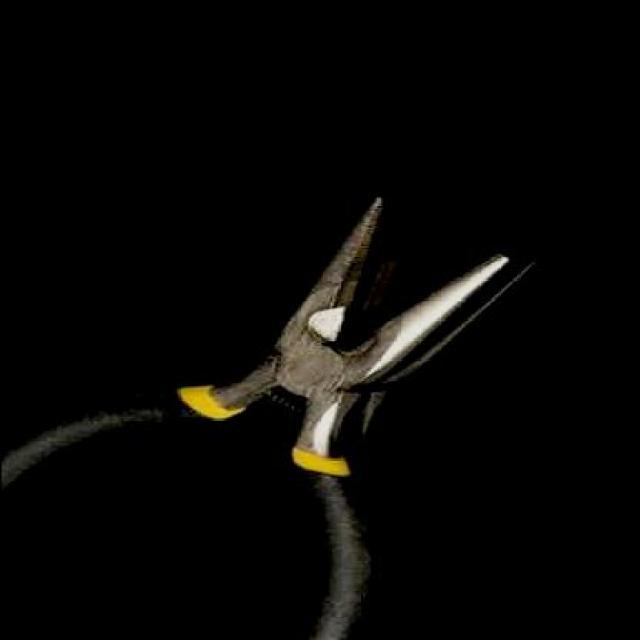pliers: (48, 197, 512, 603)
